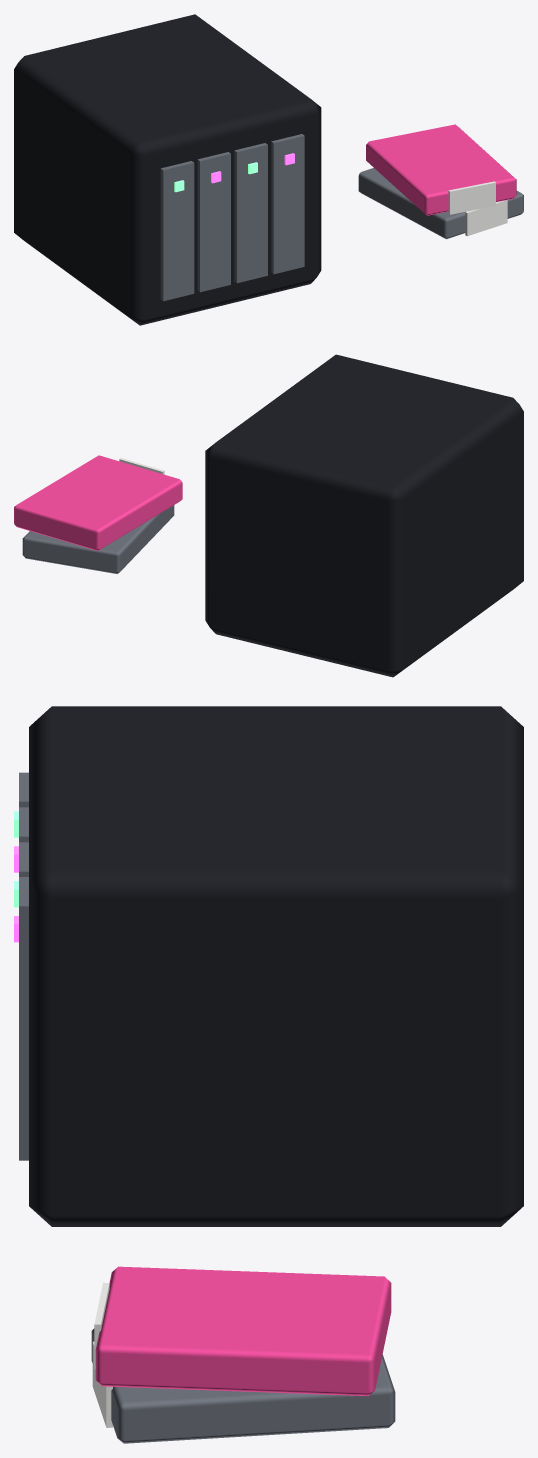
Rendered from station_transport_ausstattung_2_1.glb.
The picture shows the model from 3 angles, top to bottom: view 1: azimuth 30°, elevation 25°; view 2: azimuth 150°, elevation 25°; view 3: azimuth 270°, elevation 25°; orthographic projection. The views are drawn at different scales.
Parts seen in each view (by area): view 1: station_transport_ausstattung_2_1; view 2: station_transport_ausstattung_2_1; view 3: station_transport_ausstattung_2_1.
Boxes of the visible parts, x1,y1,x2,y2 form: station_transport_ausstattung_2_1: (14, 14, 523, 325); station_transport_ausstattung_2_1: (14, 354, 523, 677); station_transport_ausstattung_2_1: (14, 706, 523, 1443).
Bounding box in the file's own units: 0.5607 × 0.241 × 0.309.
